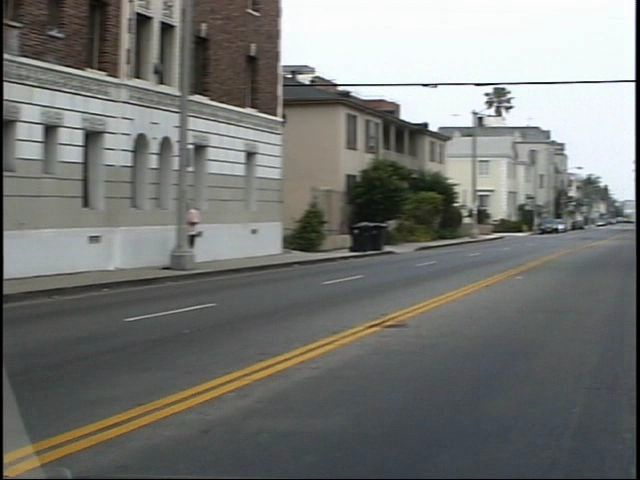person: (191, 192, 226, 266)
